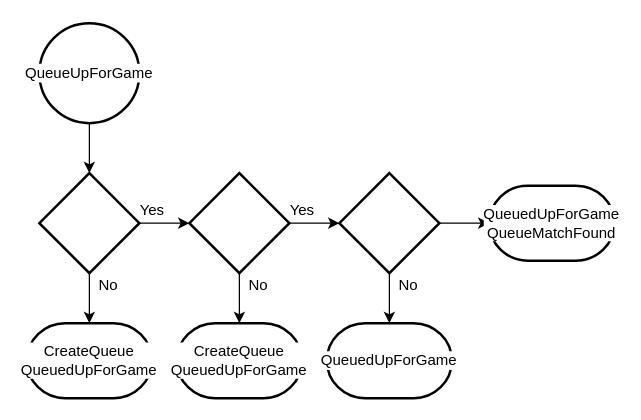
Some shapes in this 641 by 420 pixel diagram are drawn without their labels. Each missing label, with the box of its shape:
FullQueueNow?: (338, 171, 440, 274)
QueueExist?: (38, 171, 140, 274)
RoomForMore?: (188, 171, 290, 274)
